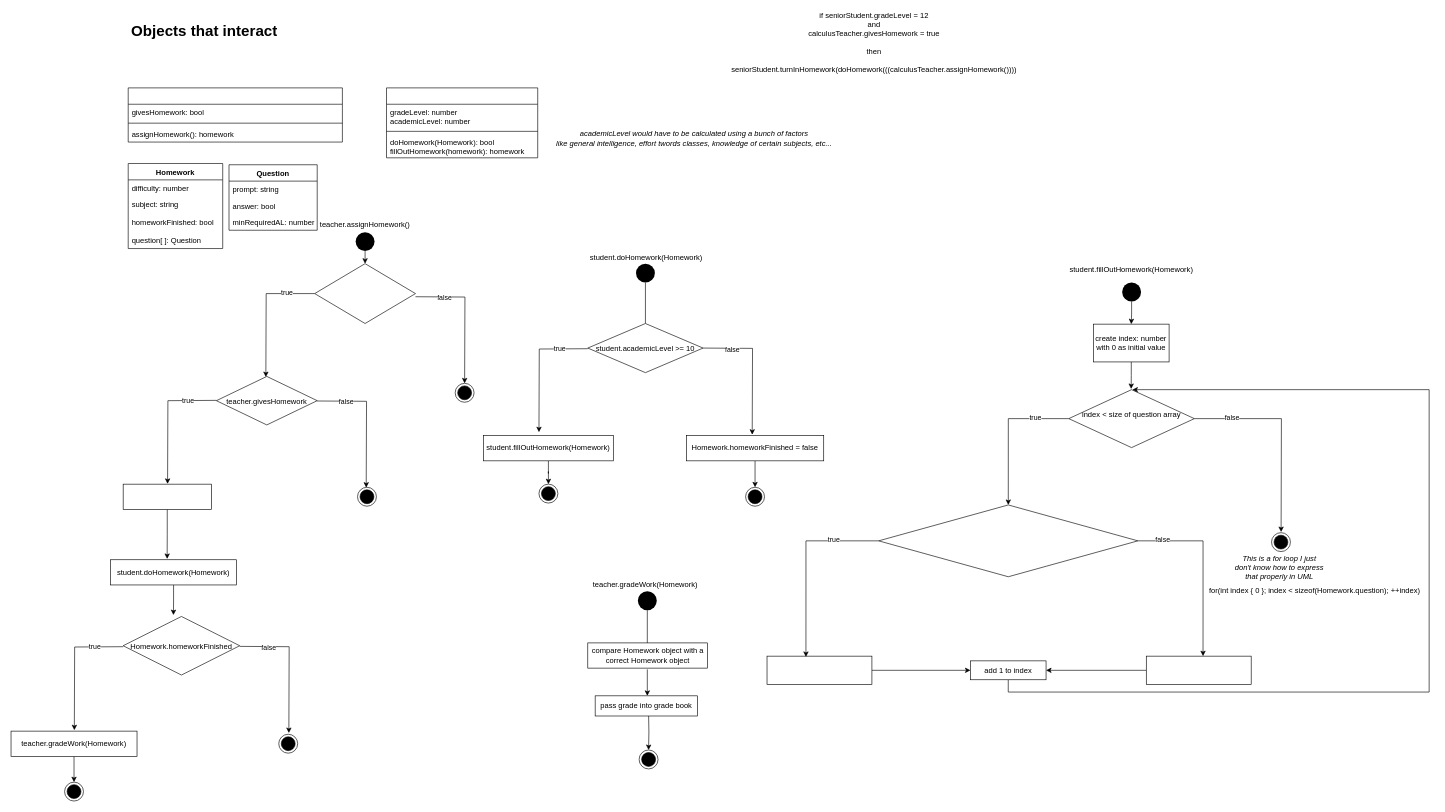
Some shapes in this 1445 by 812 pixel diagram are drawn without their labels. Here are the shapes that lost their labels. From the top down, the box of each, then its label:
(128, 87, 342, 142): Teacher
(386, 87, 538, 158): Student
(314, 263, 415, 324): student.gradeLevel == 12
(123, 484, 211, 509): create Homework object
(878, 504, 1138, 577): student.academicLevel >= Homework.question[index].minRequiredAL
(766, 656, 872, 684): Homework.question [index].answer = true
(1146, 656, 1251, 684): Homework.question [index].answer = false
